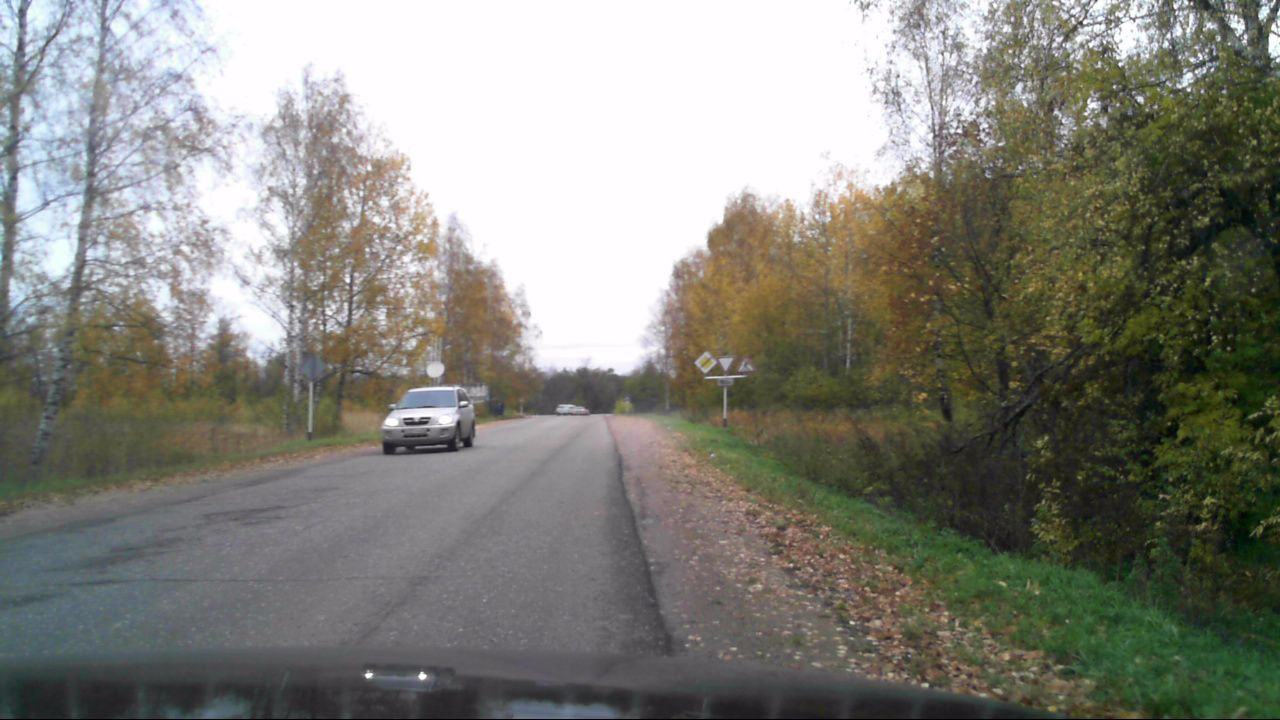main road: (693, 350, 716, 375)
